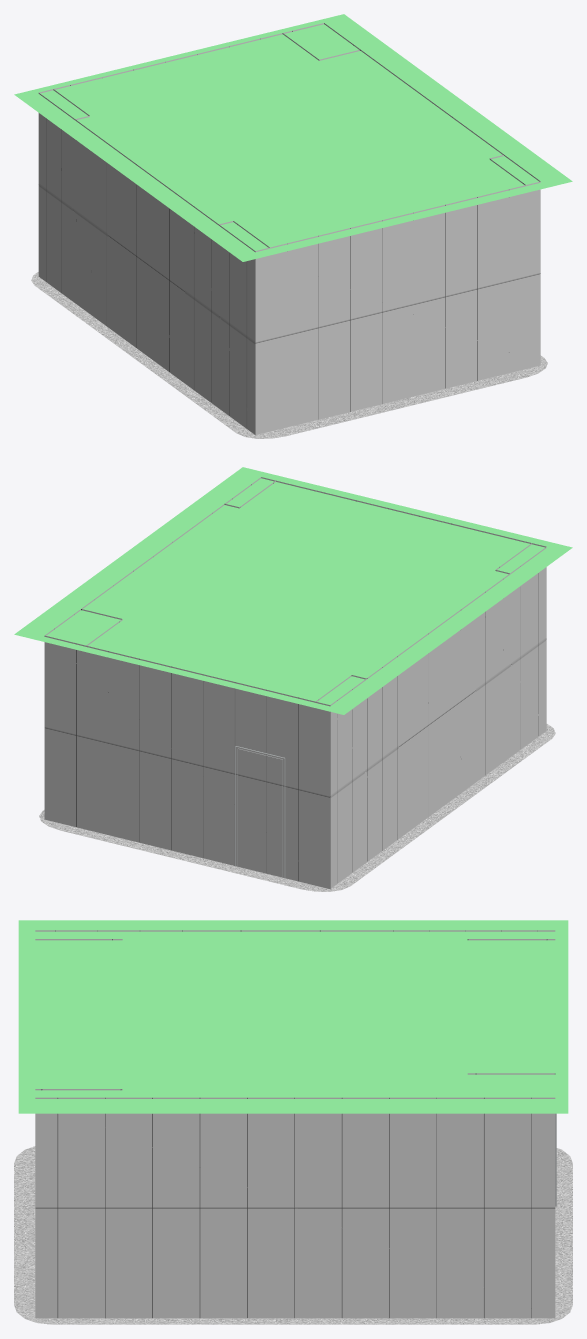
File: 洗手间.fbx
3 views of the same model, one above another, from view 1: azimuth 30°, elevation 25°; view 2: azimuth 150°, elevation 25°; view 3: azimuth 270°, elevation 25° (orthographic). The views are drawn at different scales.
Parts seen in each view (by area): view 1: Wall1, Di3, Di2; view 2: Wall1, Di3, Di2, Door_Small; view 3: Wall1, Di3, Di2.
Boxes of the visible parts, <box> form: Wall1: <box>38,23,540,434</box>; Di3: <box>14,14,572,261</box>; Di2: <box>31,272,547,438</box>; Wall1: <box>44,477,546,888</box>; Di3: <box>14,467,572,714</box>; Di2: <box>39,724,555,891</box>; Door_Small: <box>235,746,285,878</box>; Wall1: <box>35,930,555,1318</box>; Di3: <box>18,920,568,1113</box>; Di2: <box>14,1146,572,1324</box>.
Size of the model in its own units: 578 by 309 by 706.
